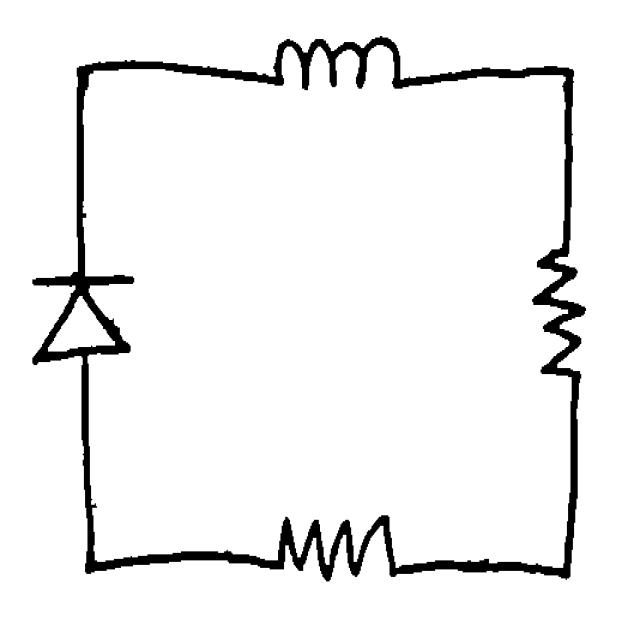diode: (18, 251, 142, 375)
inductor: (258, 24, 420, 114)
resistor: (257, 500, 414, 605), (522, 232, 594, 396)
